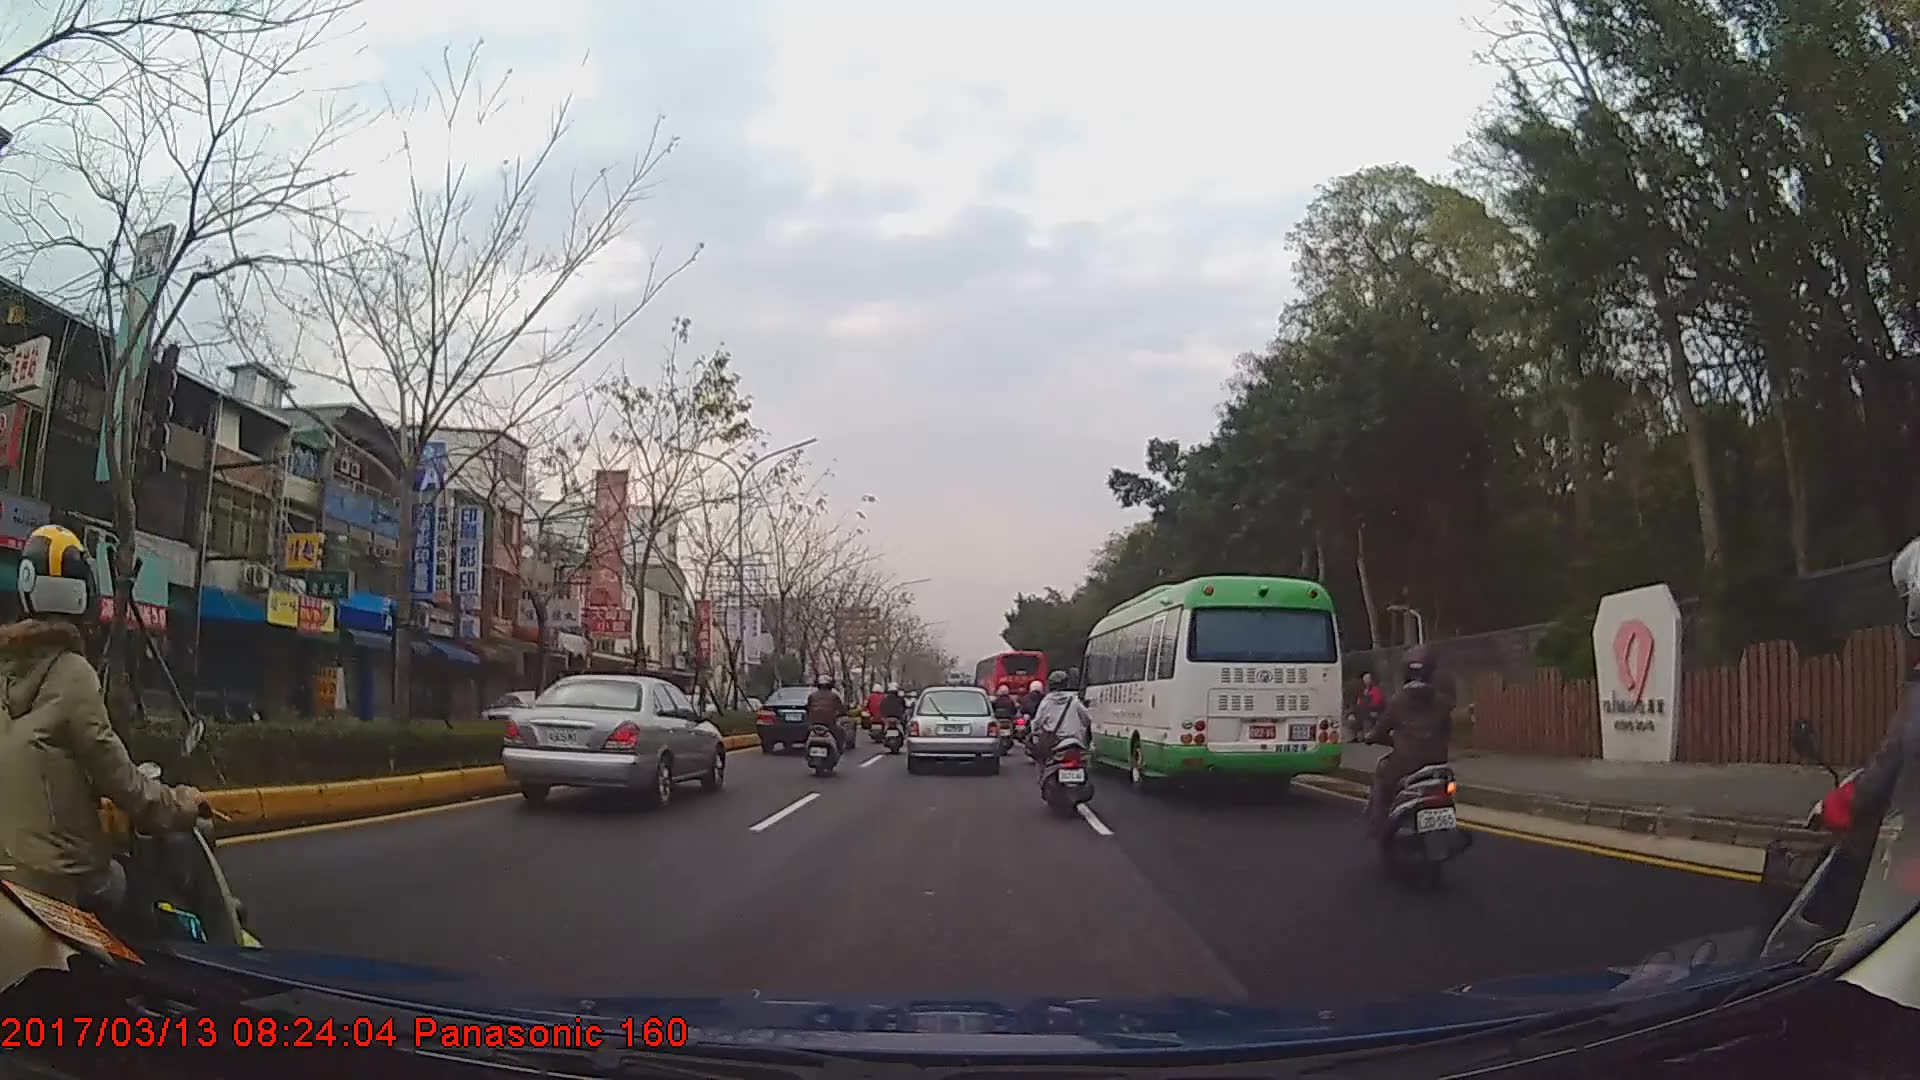pedestrian: (1351, 673, 1387, 748)
rider: (1, 516, 271, 1037), (1357, 648, 1472, 880), (1030, 670, 1091, 819), (805, 673, 850, 776), (879, 682, 908, 755), (988, 685, 1017, 756), (1024, 679, 1050, 745), (866, 682, 892, 745), (903, 691, 923, 728)
vehicle: (1073, 573, 1343, 791), (501, 671, 723, 814), (906, 686, 1001, 773), (758, 683, 859, 754), (974, 647, 1045, 722)
